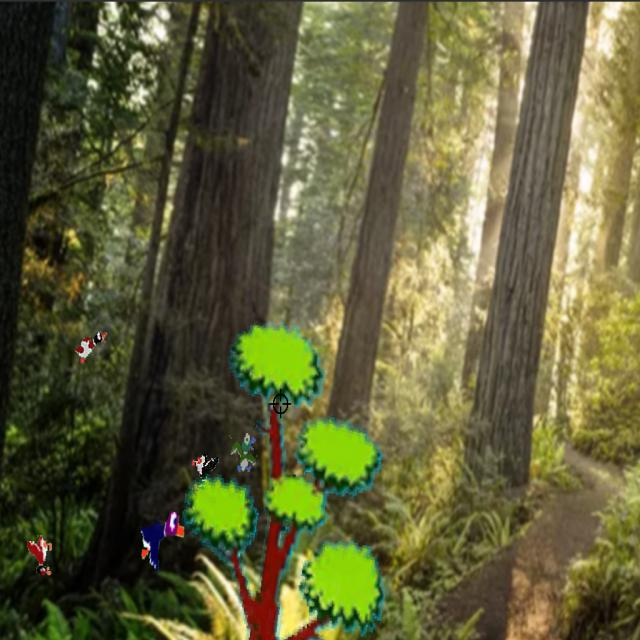duck: (135, 503, 189, 574), (71, 322, 113, 372)
falling_duck: (21, 530, 64, 578), (227, 426, 263, 478), (191, 446, 219, 488)
